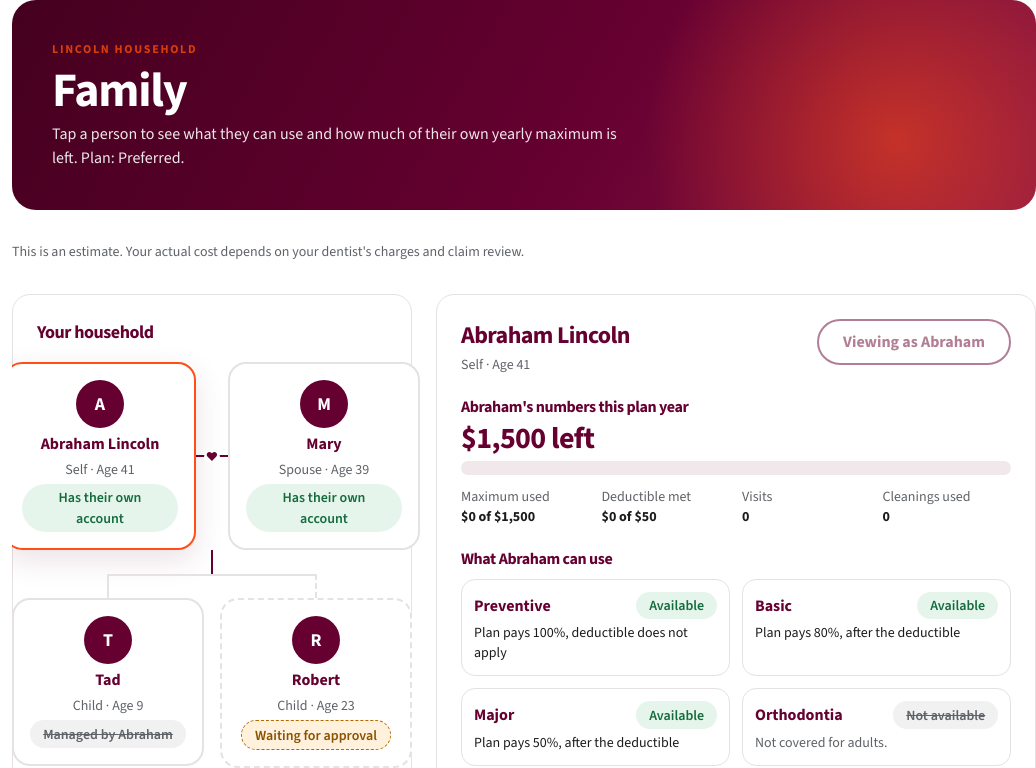
Test: Family page › switches the active member with View as
The width and height of the screenshot is (1036, 768).
What coordinates should you click on to do the following:
click the button with test id "node-m-maya"
I would click on:
 (108, 682)
Its box is [12,598,204,766].
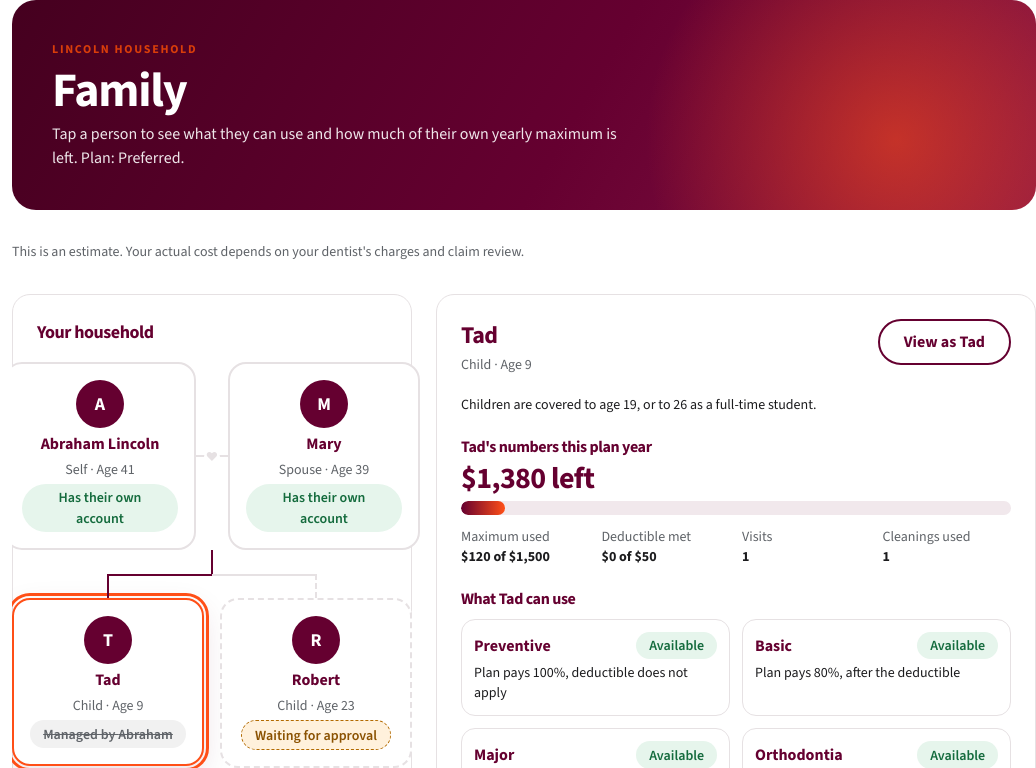
What coordinates should you click on to do the following:
click the button "View as Tad"
I would click on:
 (944, 342)
Its box is [878,319,1011,365].
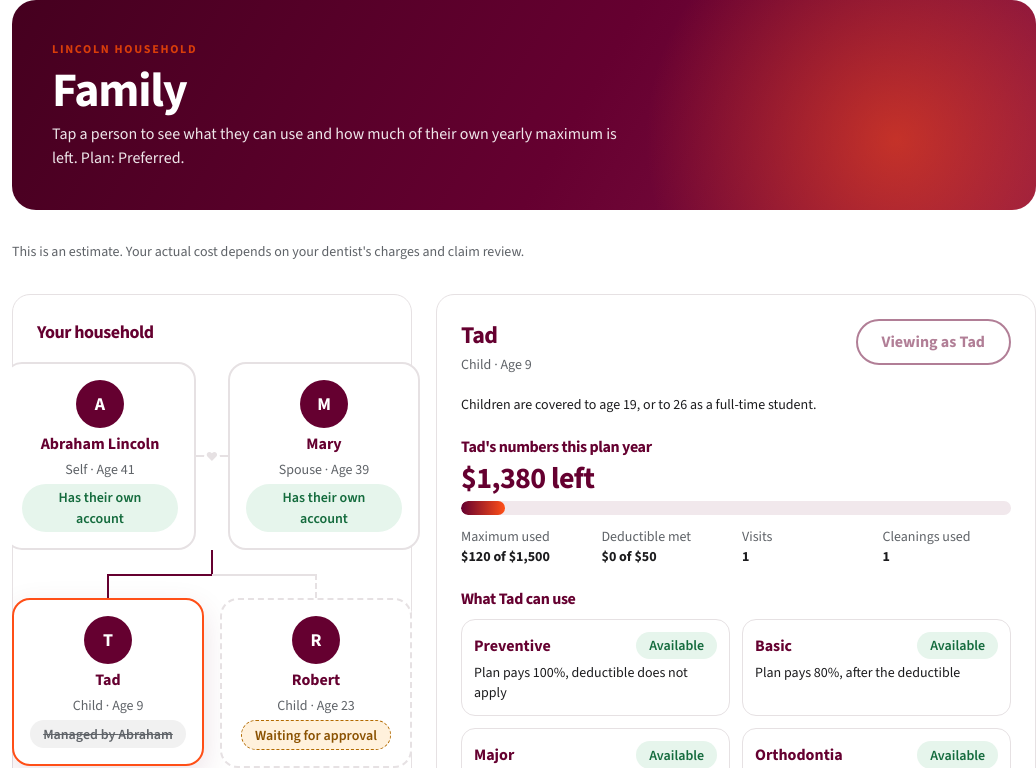
Check: the button "Viewing as Tad" is disabled, box [856,319,1011,365]
